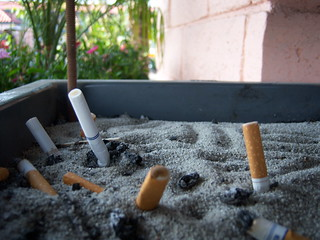cigarette: (65, 85, 115, 169), (240, 119, 274, 196), (233, 210, 314, 240), (134, 163, 173, 212), (14, 159, 60, 199), (25, 116, 62, 158), (60, 171, 110, 194)
